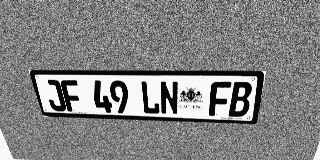4: (90, 80, 113, 113)
9: (109, 80, 130, 113)
B: (228, 82, 253, 117)
F: (209, 81, 231, 116), (60, 80, 84, 112)
J: (43, 80, 67, 111)
L: (140, 81, 160, 114)
N: (159, 81, 178, 115)
